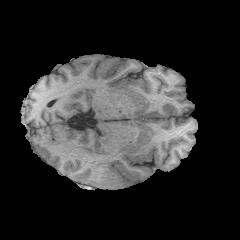glioma: (81, 161, 140, 189)
